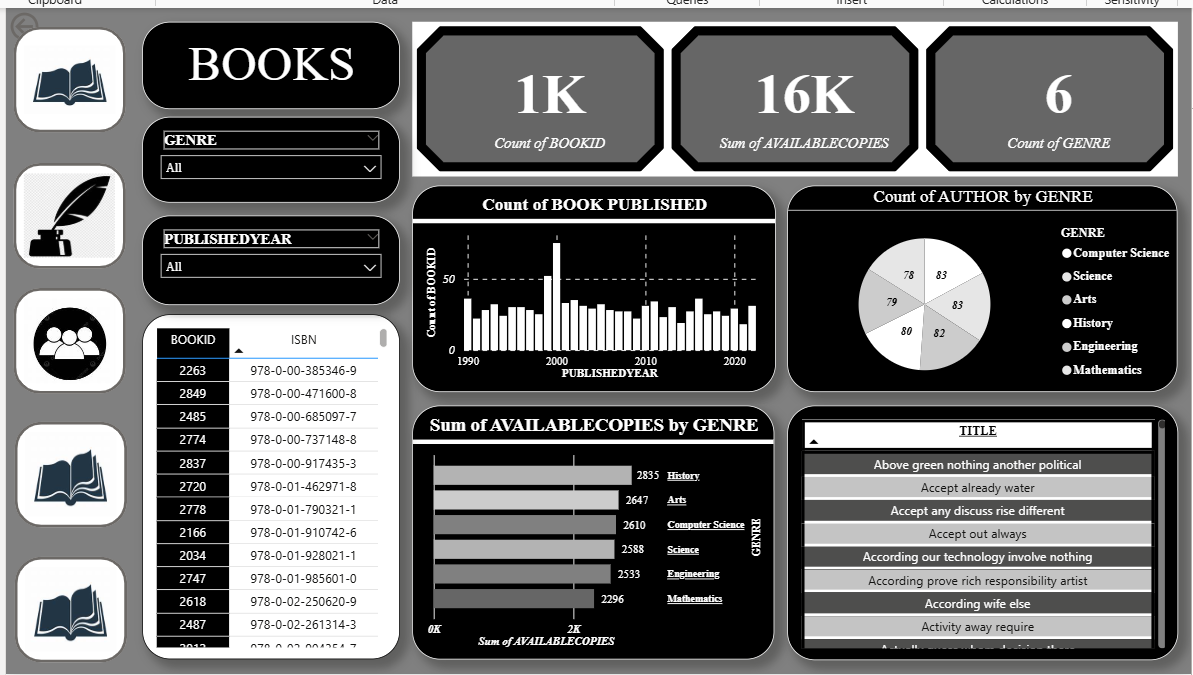

This screenshot's page, from the dashboard's own definition file:
{"tool":"powerbi","page":{"name":"Page 1","canvas":[1280,720],"ordinal":1},"visuals":[{"type":"cardVisual","fields":{"Data":["CountNonNull(2025-06-02 11_23am (2).BOOKID)","Sum(2025-06-02 11_23am (2).AVAILABLECOPIES)","Count(2025-06-02 11_23am (2).GENRE)"]},"box":[438.6,14.3,827.1,167.1],"z":0},{"type":"lineClusteredColumnComboChart","title":"Count of BOOK PUBLISHED","fields":{"Category":["2025-06-02 11_23am (2).PUBLISHEDYEAR.Variation.Date Hierarchy.Year"],"Y":["Count(2025-06-02 11_23am (2).BOOKID)"]},"box":[438.6,191.4,392.9,222.9],"z":1000},{"type":"clusteredBarChart","fields":{"Category":["2025-06-02 11_23am (2).GENRE"],"Y":["Sum(2025-06-02 11_23am (2).AVAILABLECOPIES)"]},"box":[438.6,430,391.4,274.3],"z":2000},{"type":"tableEx","fields":{"Values":["2025-06-02 11_23am (2).TITLE"]},"box":[844.1,429.5,422.7,275.5],"z":3000},{"type":"tableEx","fields":{"Values":["2025-06-02 11_23am (2).BOOKID","2025-06-02 11_23am (2).ISBN"]},"box":[147.1,331.4,278.6,372.9],"z":4000},{"type":"pieChart","title":"Count of AUTHOR by GENRE","fields":{"Y":["Count(2025-06-02 11_23am (2).AUTHORID)"],"Category":["2025-06-02 11_23am (2).GENRE"]},"box":[843.9,192.1,422,222.9],"z":5000},{"type":"textbox","box":[147.1,14.3,278.6,94.3],"z":6000},{"type":"slicer","fields":{"Values":["2025-06-02 11_23am (2).GENRE"]},"box":[147.1,117.1,278.6,92.9],"z":7000},{"type":"slicer","fields":{"Values":["2025-06-02 11_23am (2).PUBLISHEDYEAR"]},"box":[147.1,224.3,278.6,97.1],"z":8000},{"type":"actionButton","box":[0,0,100,40],"z":9000},{"type":"actionButton","box":[8.6,302.9,121.4,114.3],"z":11000},{"type":"actionButton","box":[8.6,20,121.4,114.3],"z":12000},{"type":"actionButton","box":[8.6,167.1,121.4,114.3],"z":13000},{"type":"actionButton","box":[8.9,446.6,121.4,114.3],"z":14000},{"type":"actionButton","box":[8.9,592.3,121.4,114.3],"z":15000}]}

Visuals, with their boxes on the page's 1280x720 design canvas (x1, y1, x2, y2). These are canvas units, not pixel positions in the 1193x675 screenshot, which may show the page scaled, cropped or inside an application window:
cardVisual - CountNonNull(2025-06-02 11_23am (2).BOOKID) x Sum(2025-06-02 11_23am (2).AVAILABLECOPIES): bbox=[439, 14, 1266, 181]
"Count of BOOK PUBLISHED" lineClusteredColumnComboChart: bbox=[439, 191, 832, 414]
clusteredBarChart - 2025-06-02 11_23am (2).GENRE x Sum(2025-06-02 11_23am (2).AVAILABLECOPIES): bbox=[439, 430, 830, 704]
tableEx - 2025-06-02 11_23am (2).TITLE: bbox=[844, 430, 1267, 705]
tableEx - 2025-06-02 11_23am (2).BOOKID x 2025-06-02 11_23am (2).ISBN: bbox=[147, 331, 426, 704]
"Count of AUTHOR by GENRE" pieChart: bbox=[844, 192, 1266, 415]
textbox: bbox=[147, 14, 426, 109]
slicer - 2025-06-02 11_23am (2).GENRE: bbox=[147, 117, 426, 210]
slicer - 2025-06-02 11_23am (2).PUBLISHEDYEAR: bbox=[147, 224, 426, 321]
actionButton: bbox=[0, 0, 100, 40]
actionButton: bbox=[9, 303, 130, 417]
actionButton: bbox=[9, 20, 130, 134]
actionButton: bbox=[9, 167, 130, 281]
actionButton: bbox=[9, 447, 130, 561]
actionButton: bbox=[9, 592, 130, 707]
